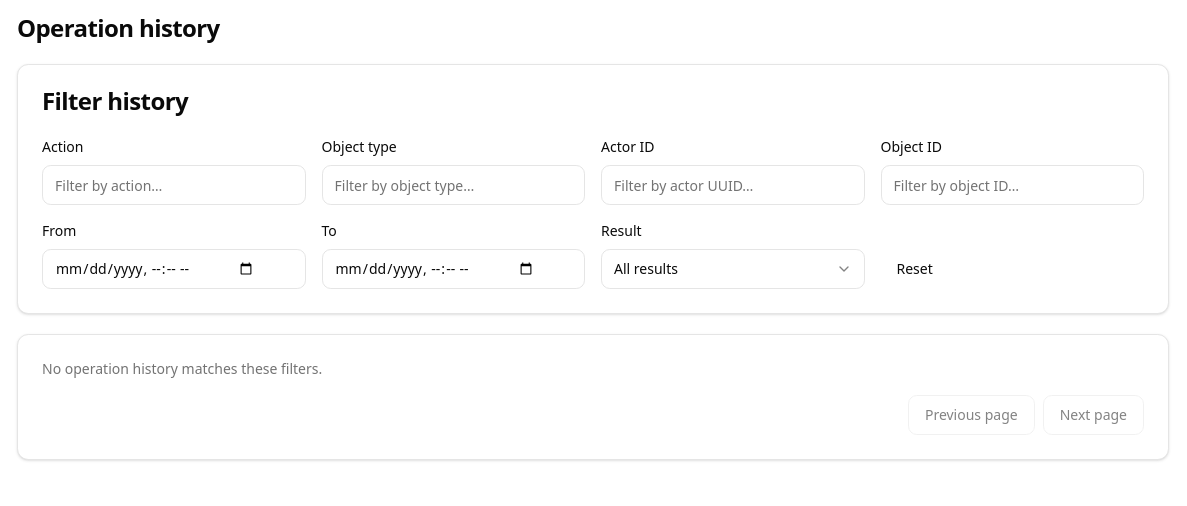
Test: operation log filters › shows invalid actor input instead of an endless loading state and makes no request
Check: the heading "Operation history" is shown, box x1=17 y1=11 x2=220 y2=44
Step 1. Type "not-a-uuid" into the field labelled "Actor ID" → (733, 185), box x1=601 y1=165 x2=864 y2=205
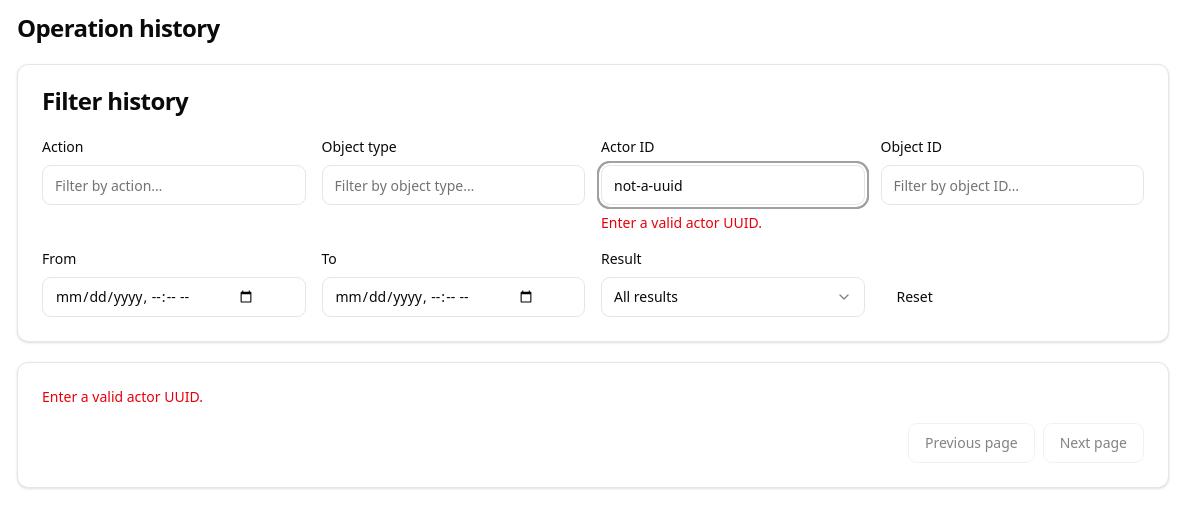
Check: the text "Enter a valid actor UUID." is shown, box x1=601 y1=213 x2=762 y2=232
Check: the message "Enter a valid actor UUID." is shown, box x1=42 y1=387 x2=203 y2=406
